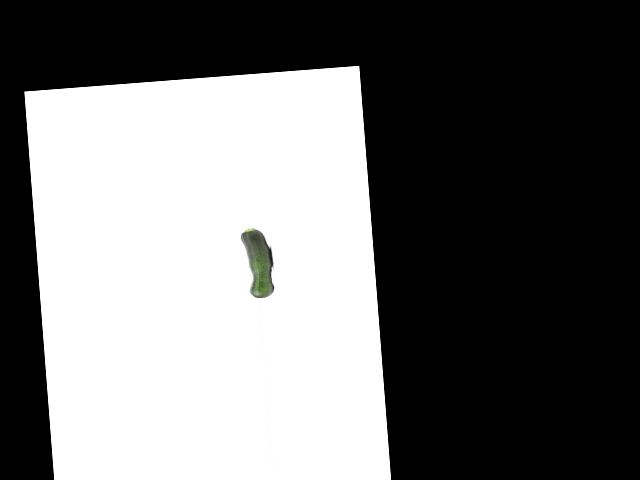cucumber: (240, 226, 275, 298)
